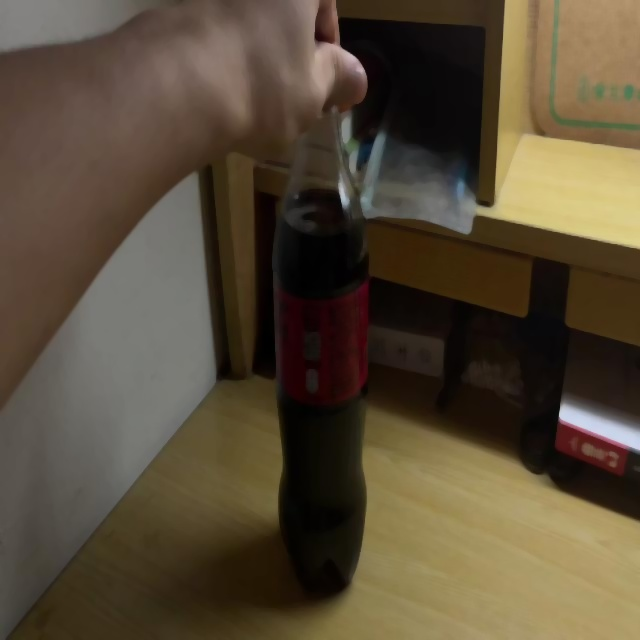Coca-Cola: (272, 36, 369, 596)
